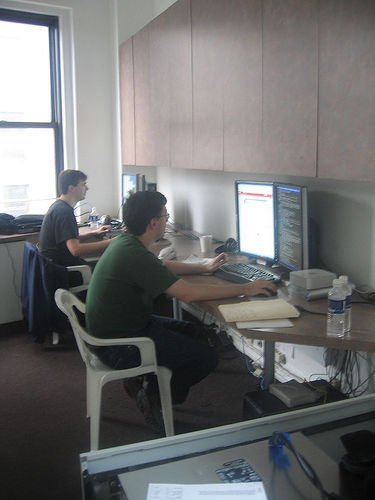bottle: (328, 278, 350, 340)
chair: (55, 294, 173, 448), (22, 244, 89, 346)
cup: (200, 236, 214, 256)
dining table: (67, 268, 374, 494), (211, 272, 374, 398)
person: (88, 192, 266, 410), (41, 173, 112, 280)
tv: (236, 184, 310, 272)
